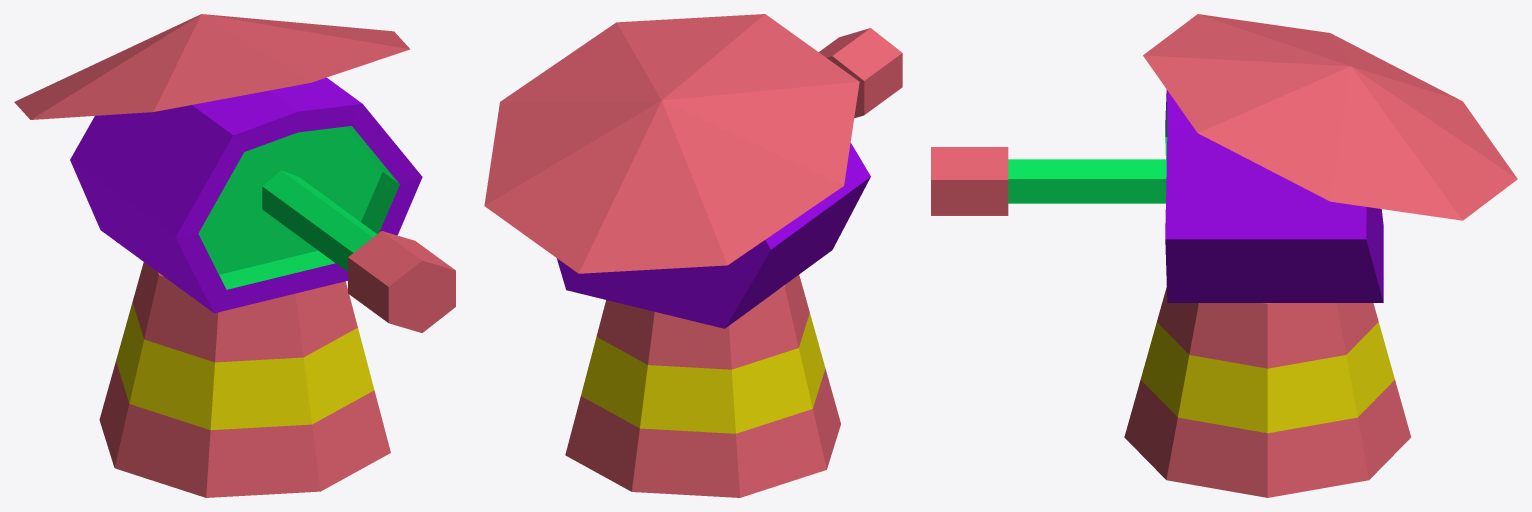
The model's file is turret-japan.fbx.
The picture shows the model from 3 angles, left to right: view 1: azimuth 30°, elevation 25°; view 2: azimuth 150°, elevation 25°; view 3: azimuth 270°, elevation 25°; orthographic projection. The views are drawn at different scales.
Visible parts, largest first — view 1: turret-japan; view 2: turret-japan; view 3: turret-japan.
Part boxes in pixels (bbox=[...]): turret-japan: bbox=[14, 14, 455, 497]; turret-japan: bbox=[484, 14, 902, 497]; turret-japan: bbox=[931, 14, 1517, 497].
Bounding box in the file's own units: 0.8345 × 0.881 × 1.23.
